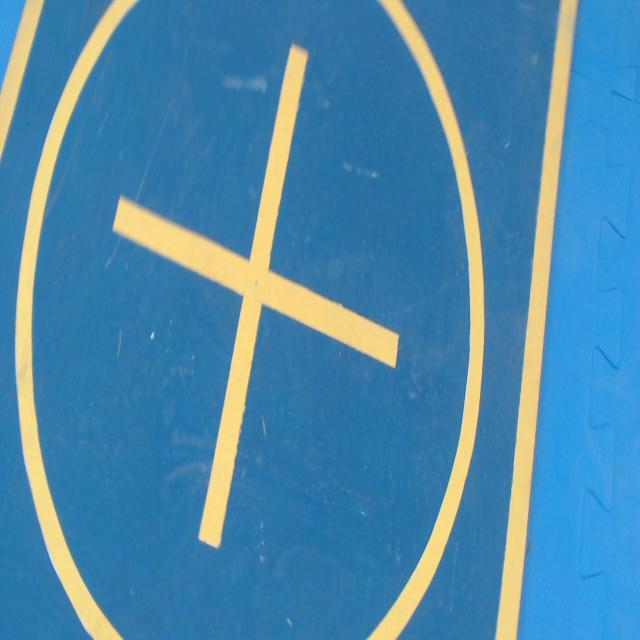base_pouso: (0, 0, 580, 639)
